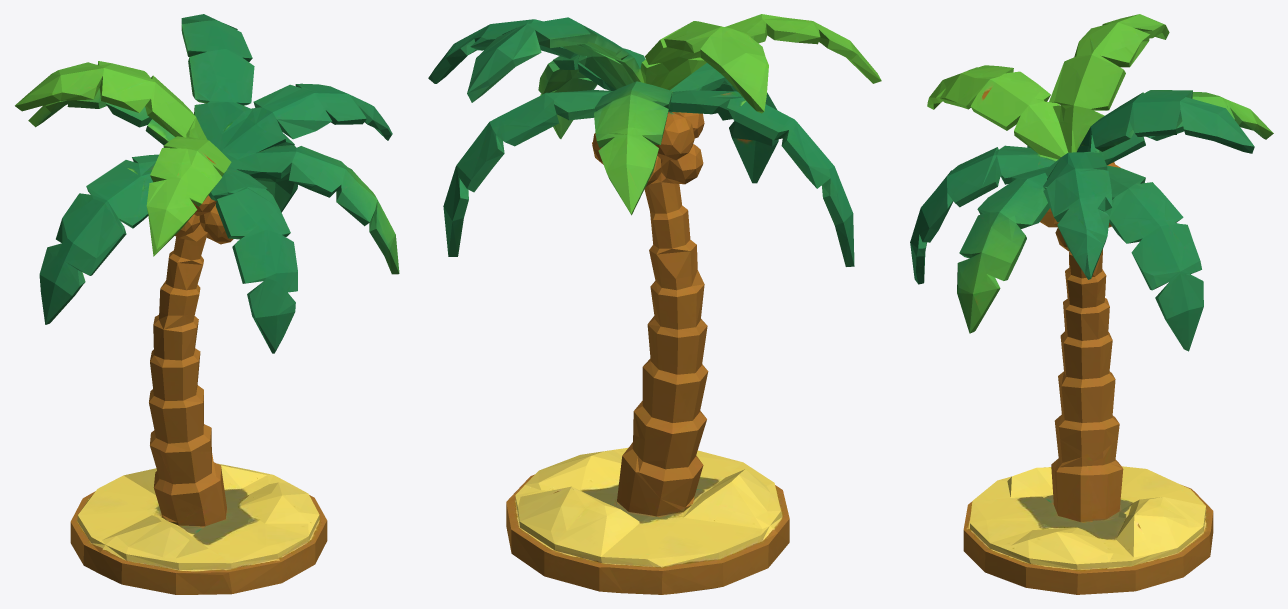
Rendered from rio-arvore-coqueiro.glb.
3 views of the same model, side by side, from view 1: azimuth 30°, elevation 25°; view 2: azimuth 150°, elevation 25°; view 3: azimuth 270°, elevation 25° (orthographic). The views are drawn at different scales.
Parts seen in each view (by area): view 1: tripo_node_88e2d9cf-f118-4060-9b52-acb1aa44d3c4; view 2: tripo_node_88e2d9cf-f118-4060-9b52-acb1aa44d3c4; view 3: tripo_node_88e2d9cf-f118-4060-9b52-acb1aa44d3c4.
Part boxes in pixels (x1,y1,x2,y2): tripo_node_88e2d9cf-f118-4060-9b52-acb1aa44d3c4: (15, 14, 399, 594); tripo_node_88e2d9cf-f118-4060-9b52-acb1aa44d3c4: (428, 14, 881, 594); tripo_node_88e2d9cf-f118-4060-9b52-acb1aa44d3c4: (910, 14, 1273, 594).
Size of the model in its own units: 0.7868 by 0.9999 by 0.6857.
Materials: 1 (1 with a texture image).
